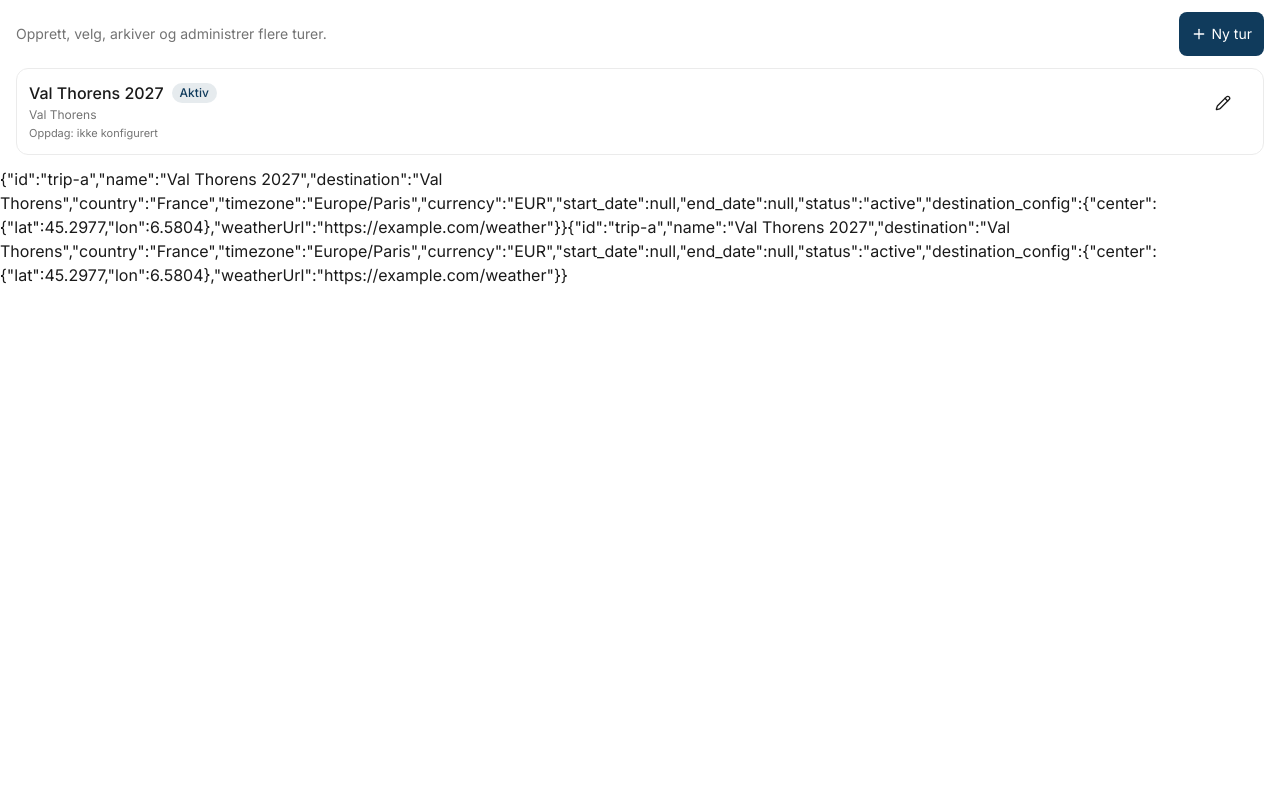
it: faktisk turlagring gjennom AdminTrips og TripProvider › avviser nye ugyldige kartverdier før noe skrives til serveren
Click the button named "Rediger tur": (1229, 103) [1207,81,1251,125]
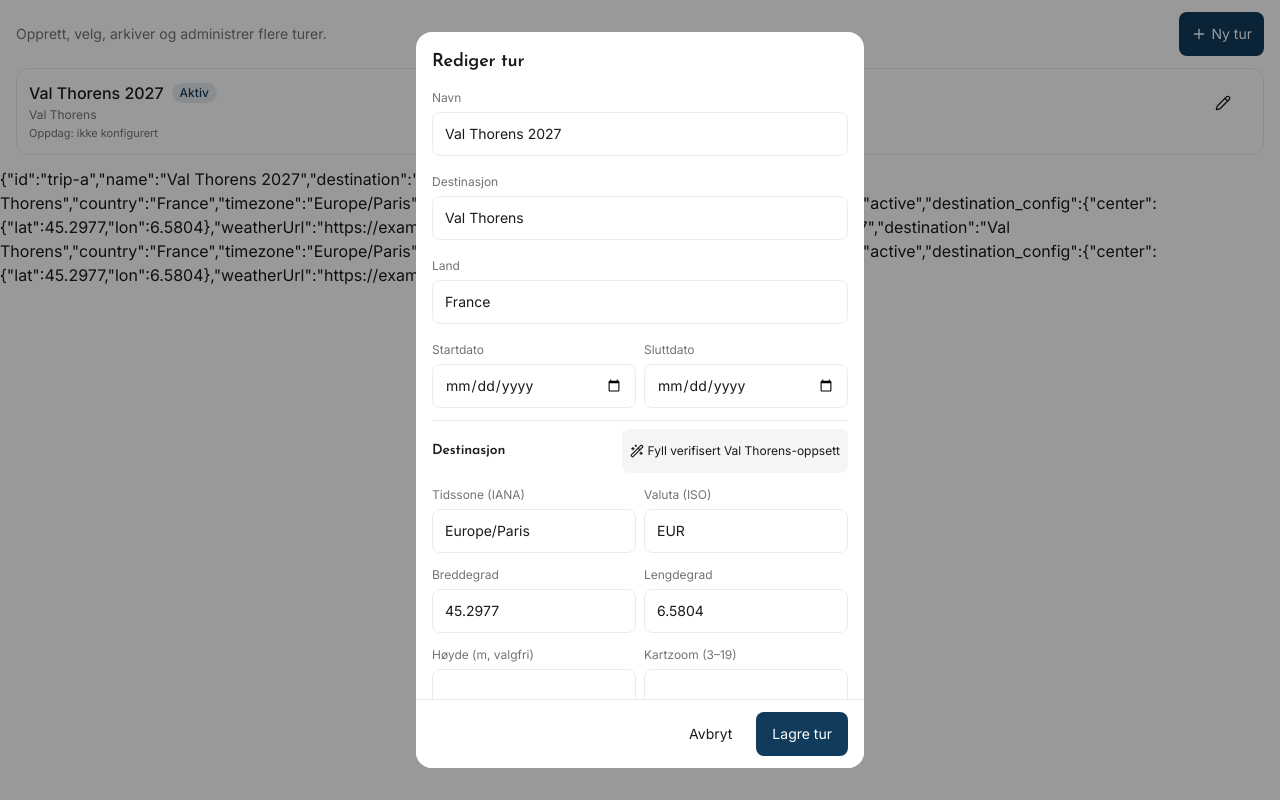
In the date field labelled "Startdato": (534, 386) [432,364,636,408], type "2027-02-10"
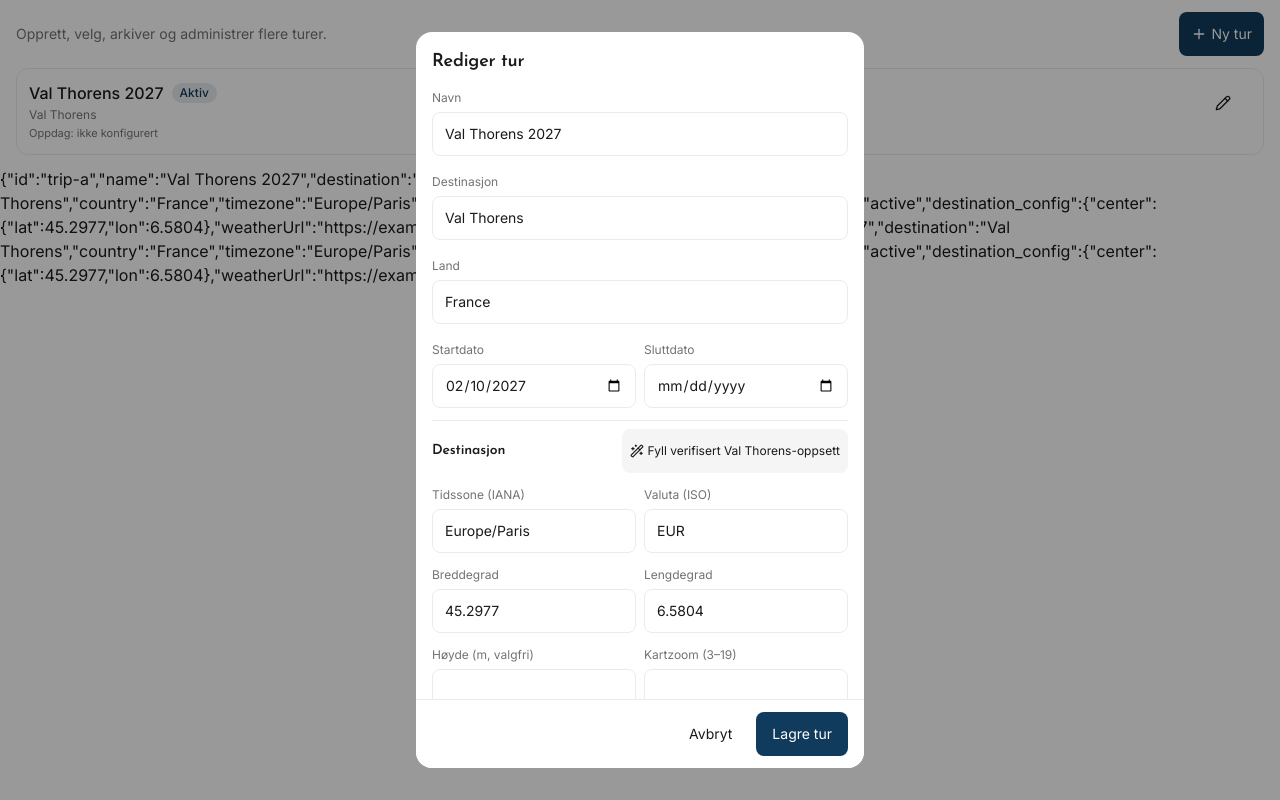
In the date field labelled "Sluttdato": (746, 386) [644,364,848,408], type "2027-02-17"
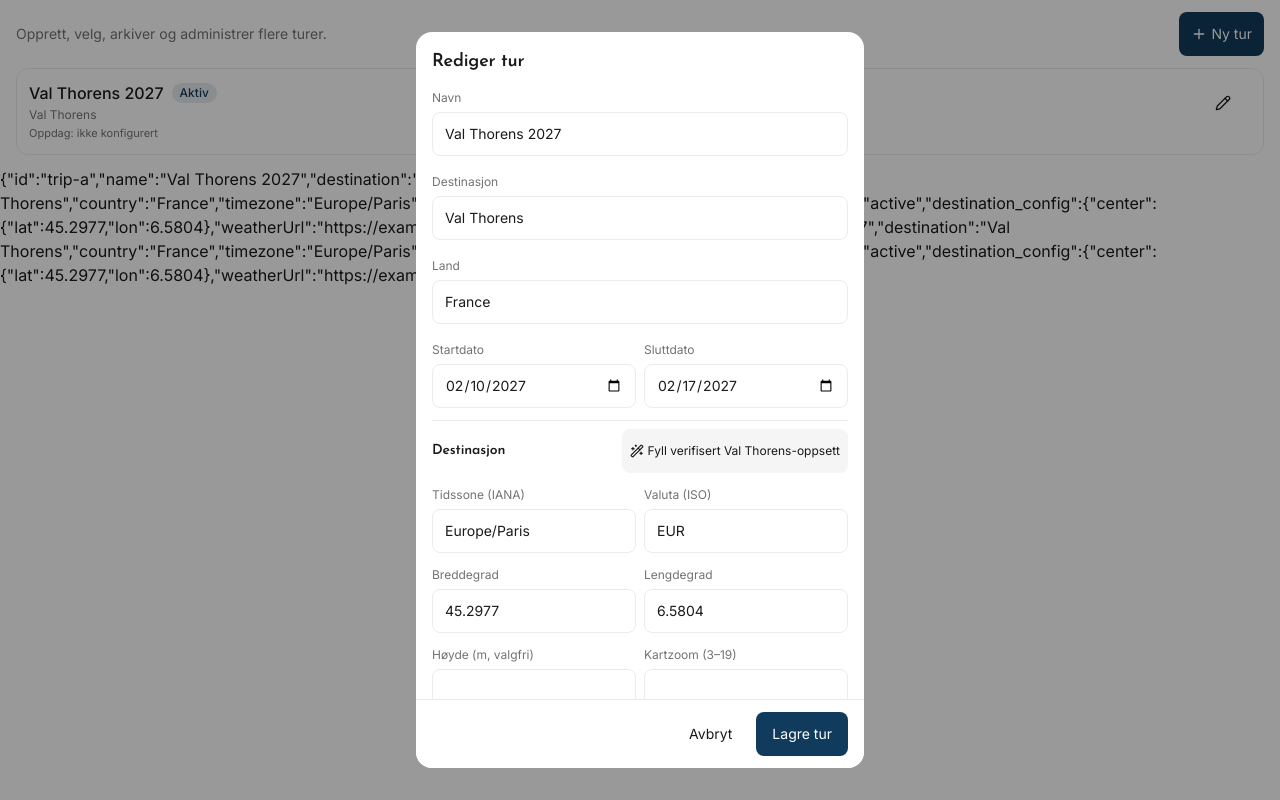
Replace the text in the field labelled "Breddegrad" with "100": (534, 611) [432,589,636,633]
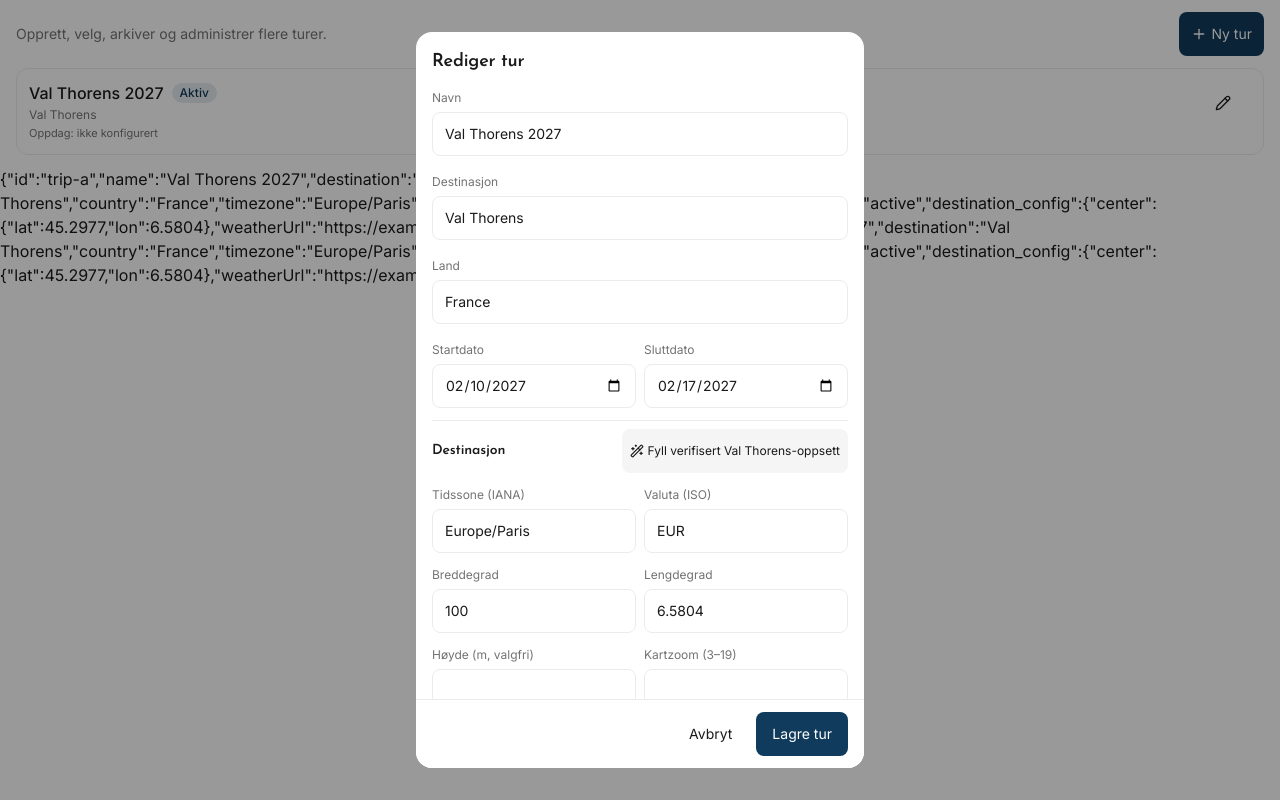
Click the button "Lagre tur": (802, 734) [756,712,848,756]
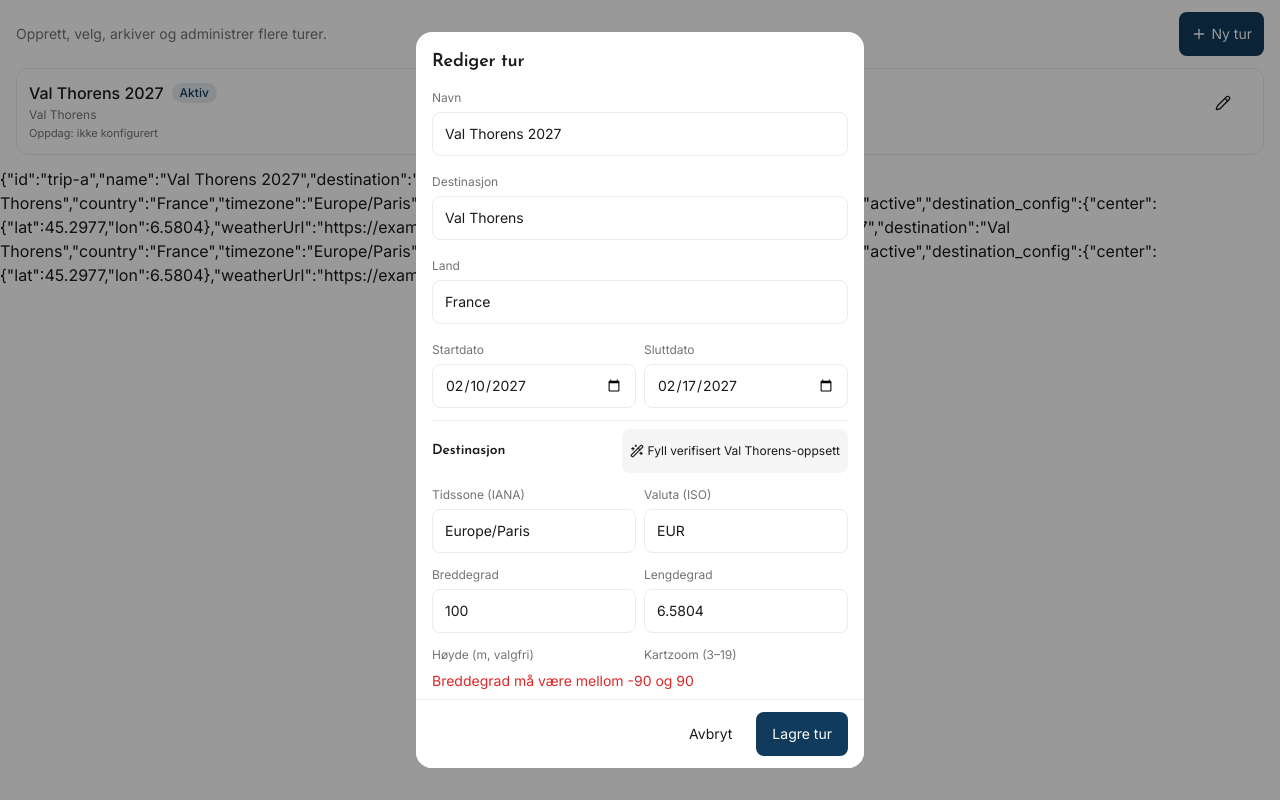
Now the message reads "Breddegrad må være mellom -90 og 90", box [432,672,694,689]
